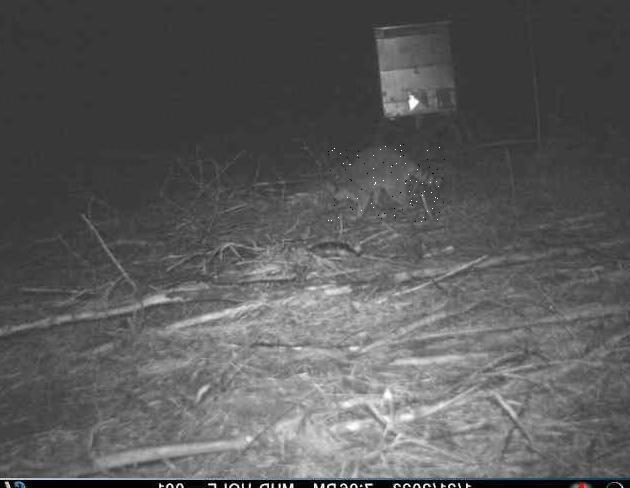Raccoon: (328, 144, 447, 222)
